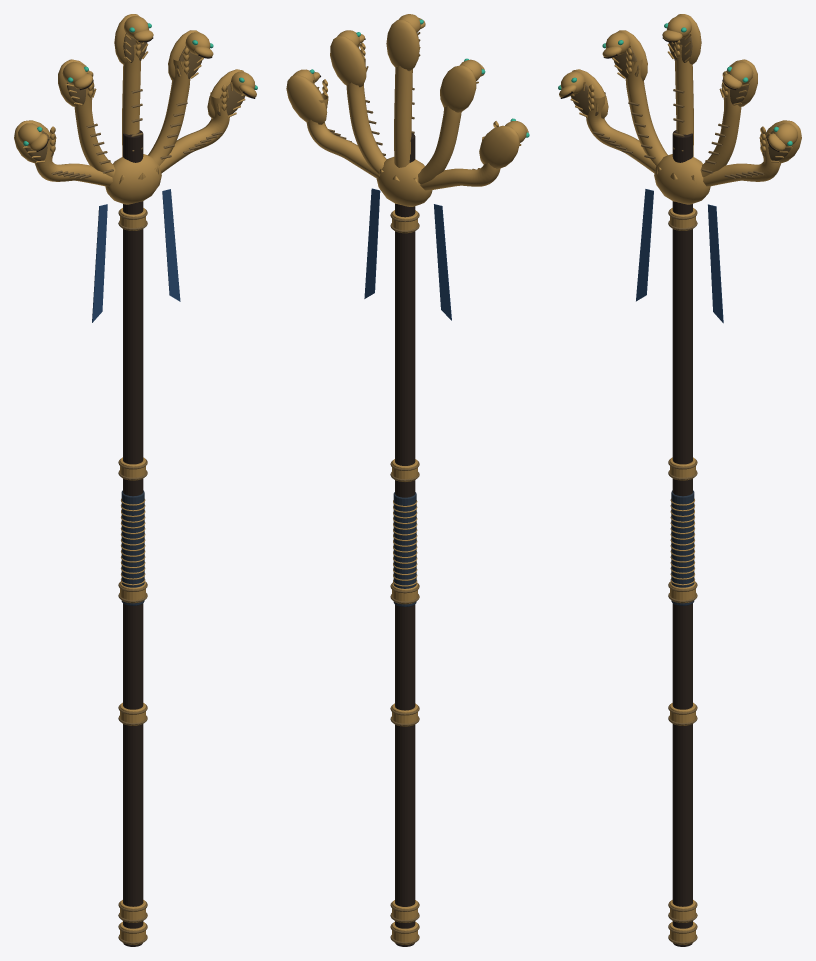
Rendered from EDH_Sariwa_Naga_Staff.glb.
The picture shows the model from 3 angles, left to right: view 1: azimuth 30°, elevation 25°; view 2: azimuth 150°, elevation 25°; view 3: azimuth 330°, elevation 25°; orthographic projection.
Visible parts, largest first — view 1: Staff | blackwood shaft, Staff | reinforced grip, Staff | crown socket, Naga 3 | curved neck, Naga 4 | curved neck, Naga 2 | curved neck, Naga 1 | curved neck, Naga 0 | curved neck, Staff | blue textile ribbon.001, Staff | blue textile ribbon; view 2: Staff | blackwood shaft, Staff | reinforced grip, Staff | crown socket, Naga 2 | curved neck, Naga 3 | curved neck, Naga 1 | curved neck, Naga 4 | hood, Naga 3 | hood, Naga 4 | curved neck, Naga 2 | hood, Naga 1 | hood, Naga 0 | hood (+3 smaller); view 3: Staff | blackwood shaft, Staff | reinforced grip, Staff | crown socket, Naga 1 | curved neck, Naga 0 | curved neck, Naga 2 | curved neck, Naga 3 | curved neck, Naga 4 | curved neck, Staff | blue textile ribbon, Staff | blue textile ribbon.001.
Boxes of the visible parts, x1=… form: Staff | blackwood shaft: x1=123, y1=130, x2=143, y2=946; Staff | reinforced grip: x1=121, y1=490, x2=144, y2=605; Staff | crown socket: x1=105, y1=154, x2=161, y2=204; Naga 3 | curved neck: x1=148, y1=59, x2=190, y2=165; Naga 4 | curved neck: x1=159, y1=92, x2=229, y2=173; Naga 2 | curved neck: x1=122, y1=44, x2=141, y2=156; Naga 1 | curved neck: x1=74, y1=81, x2=115, y2=177; Naga 0 | curved neck: x1=35, y1=132, x2=112, y2=186; Staff | blue textile ribbon.001: x1=162, y1=189, x2=180, y2=301; Staff | blue textile ribbon: x1=92, y1=204, x2=107, y2=322; Staff | blackwood shaft: x1=395, y1=133, x2=415, y2=946; Staff | reinforced grip: x1=393, y1=492, x2=416, y2=606; Staff | crown socket: x1=376, y1=157, x2=432, y2=206; Naga 2 | curved neck: x1=394, y1=66, x2=412, y2=167; Naga 3 | curved neck: x1=346, y1=59, x2=386, y2=173; Naga 1 | curved neck: x1=418, y1=106, x2=461, y2=184; Naga 4 | hood: x1=286, y1=75, x2=327, y2=124; Naga 3 | hood: x1=330, y1=36, x2=366, y2=87; Naga 4 | curved neck: x1=306, y1=94, x2=379, y2=178; Naga 2 | hood: x1=386, y1=20, x2=419, y2=71; Naga 1 | hood: x1=440, y1=65, x2=476, y2=112; Naga 0 | hood: x1=479, y1=125, x2=519, y2=168; Staff | blackwood shaft: x1=672, y1=130, x2=692, y2=946; Staff | reinforced grip: x1=671, y1=490, x2=694, y2=605; Staff | crown socket: x1=654, y1=154, x2=710, y2=204; Naga 1 | curved neck: x1=625, y1=59, x2=667, y2=165; Naga 0 | curved neck: x1=586, y1=92, x2=656, y2=173; Naga 2 | curved neck: x1=674, y1=44, x2=693, y2=156; Naga 3 | curved neck: x1=700, y1=81, x2=741, y2=177; Naga 4 | curved neck: x1=703, y1=132, x2=780, y2=186; Staff | blue textile ribbon: x1=636, y1=189, x2=653, y2=301; Staff | blue textile ribbon.001: x1=708, y1=204, x2=723, y2=323.
Size of the model in its own units: 0.5583 by 2.12 by 0.102.
